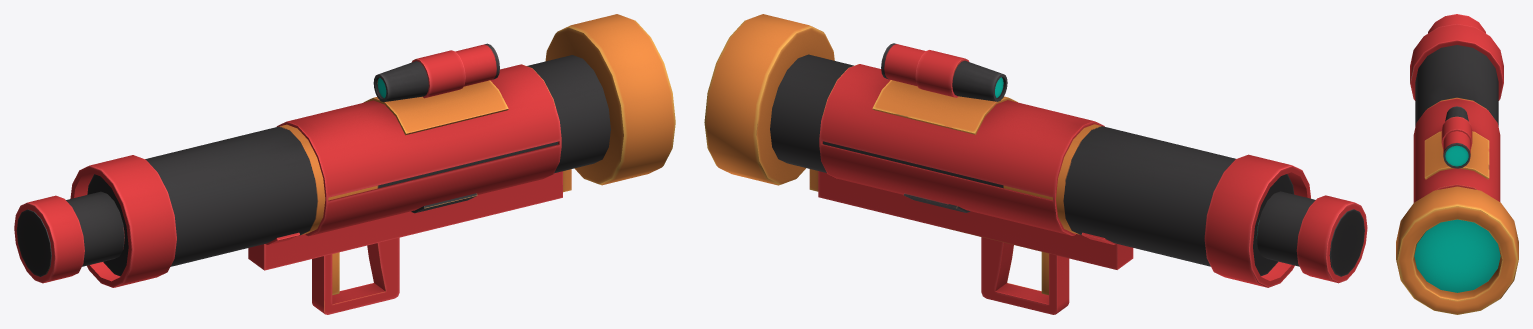
The model's file is gun 1.fbx.
The picture shows the model from 3 angles, left to right: view 1: azimuth 30°, elevation 25°; view 2: azimuth 150°, elevation 25°; view 3: azimuth 270°, elevation 25°; orthographic projection. The views are drawn at different scales.
Visible parts, largest first — view 1: body, body holder, trigger top, gun back, scope, trigger; view 2: body, body holder, gun back, trigger top, scope, trigger; view 3: body, body holder, scope, gun back.
Part boxes in pixels (x1,y1,x2,y2): body: [70, 14, 675, 287]; body holder: [276, 64, 561, 236]; trigger top: [248, 169, 571, 270]; gun back: [14, 191, 124, 283]; scope: [373, 43, 499, 102]; trigger: [312, 237, 399, 314]; body: [704, 14, 1310, 287]; body holder: [819, 64, 1104, 235]; gun back: [1256, 191, 1367, 283]; trigger top: [809, 169, 1133, 269]; scope: [881, 43, 1007, 101]; trigger: [981, 237, 1069, 314]; body: [1396, 24, 1518, 314]; body holder: [1413, 98, 1500, 202]; scope: [1441, 106, 1472, 168]; gun back: [1428, 14, 1485, 33].
Size of the model in its own units: 0.8014 by 0.2873 by 0.1883.
